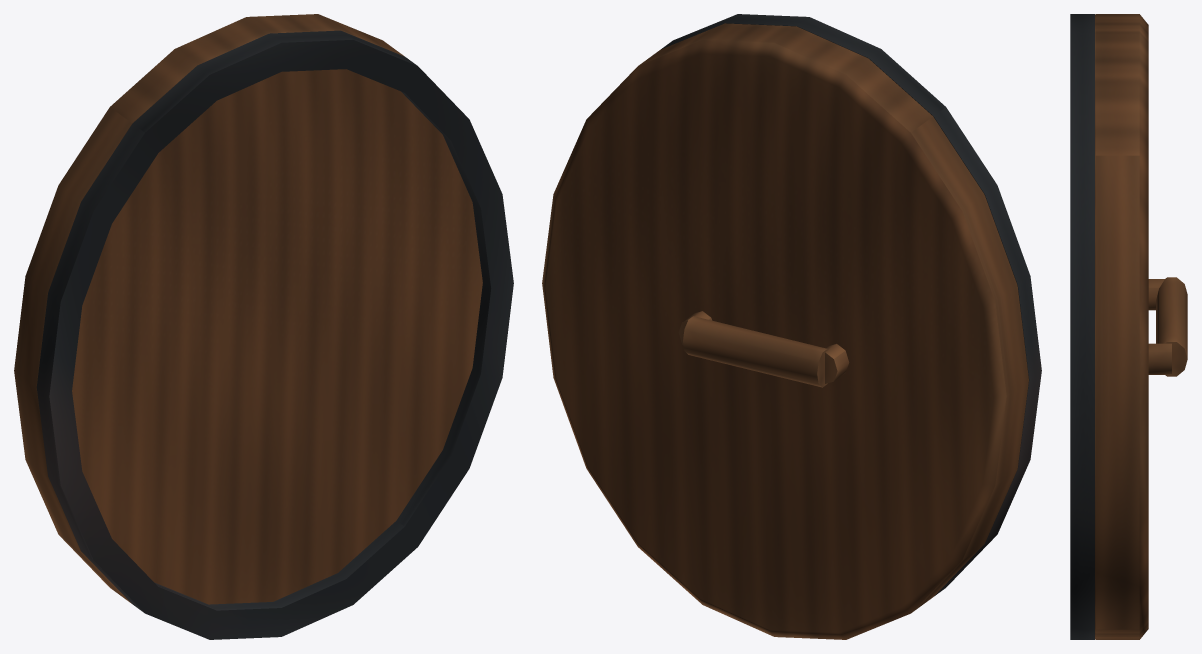
The model's file is Hold_Shield.fbx.
The picture shows the model from 3 angles, left to right: view 1: azimuth 30°, elevation 25°; view 2: azimuth 150°, elevation 25°; view 3: azimuth 270°, elevation 25°; orthographic projection.
Visible parts, largest first — view 1: Hold_Shield; view 2: Hold_Shield; view 3: Hold_Shield.
Boxes of the visible parts, x1=… form: Hold_Shield: x1=14, y1=14, x2=513, y2=639; Hold_Shield: x1=542, y1=14, x2=1041, y2=639; Hold_Shield: x1=1070, y1=14, x2=1187, y2=639.
Size of the model in its own units: 0.45 by 0.55 by 0.1.
2 materials, 2 textured.
